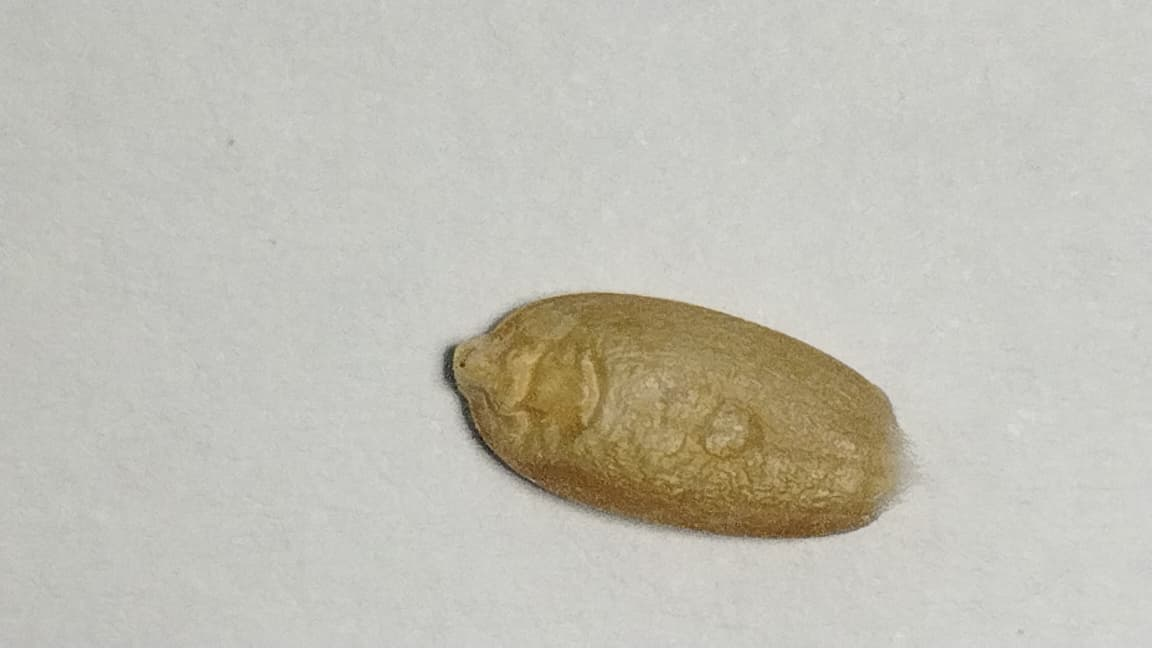healthy: (451, 294, 901, 538)
